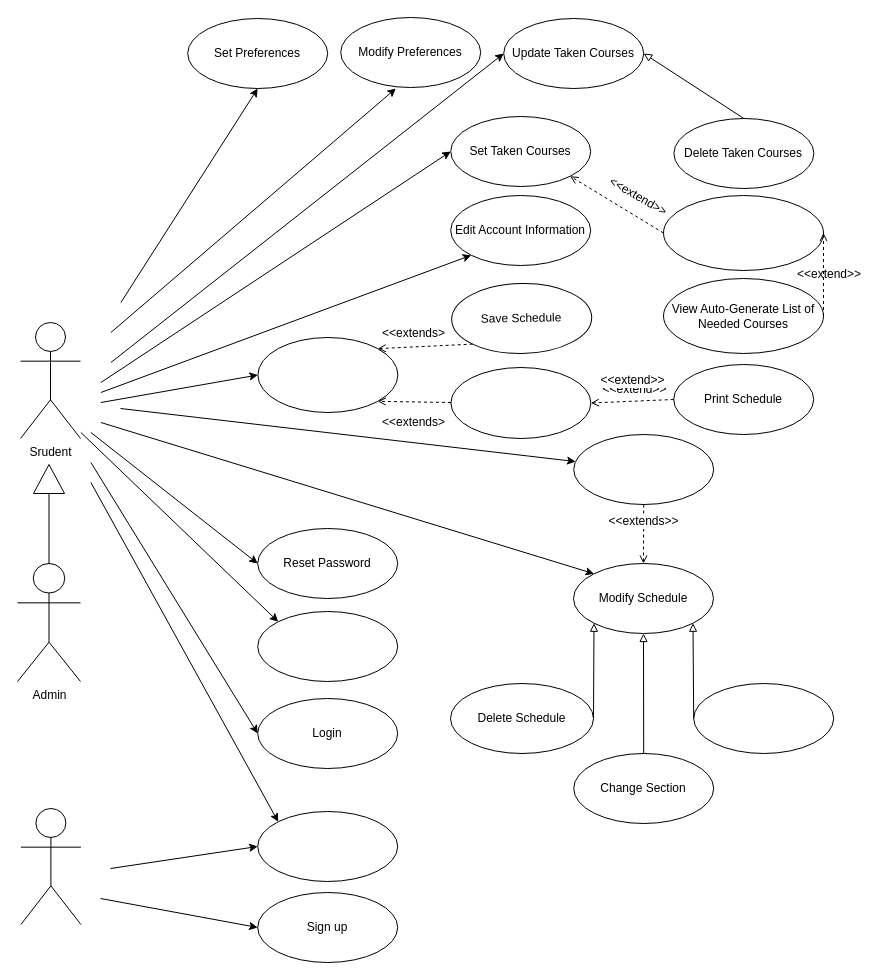
This 893x980 diagram has some shape labels left out. The shapes that lost their labels are listed below. From the top down, each one's centre as x and y in pixels, then its label:
[743,232]: Auto-Generate List of Needed Courses
[327,374]: Generate Schedule***
[520,402]: View Schedule
[643,469]: Add Needed Courses
[327,646]: Logout
[763,718]: Drop Course
[50,866]: Public User
[327,846]: View Default Schedule
